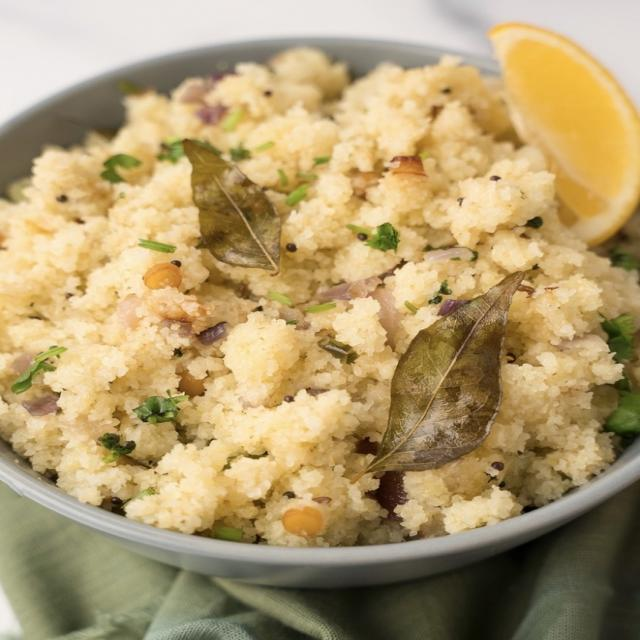UPMA: (0, 45, 637, 542)
